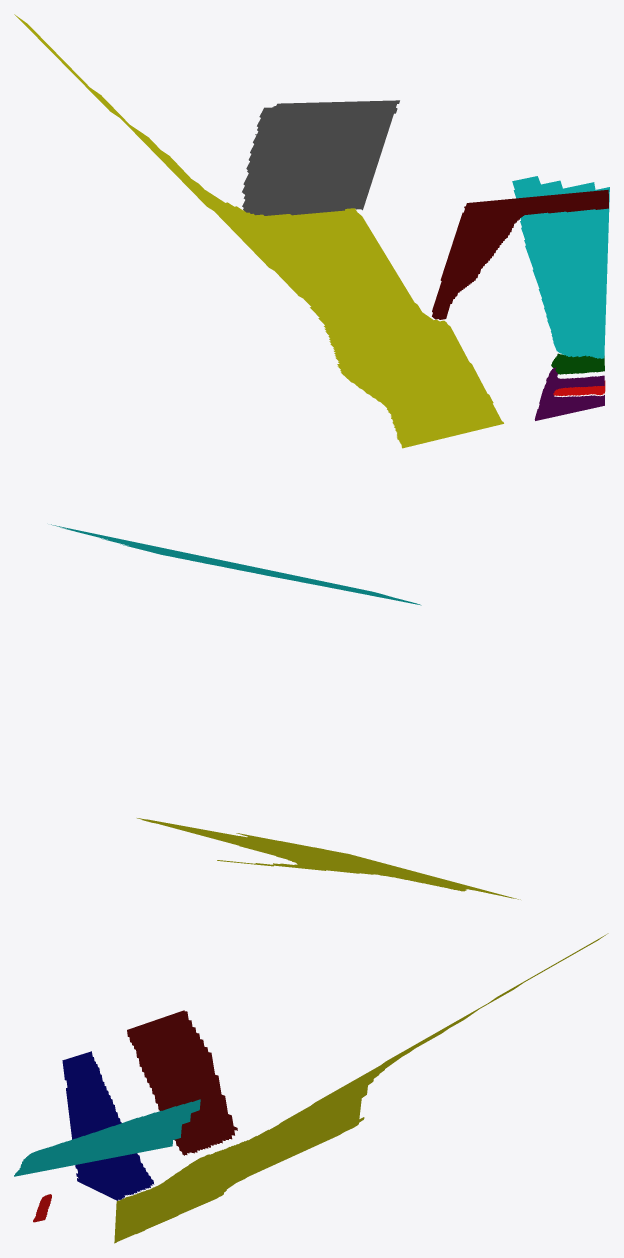
The model's file is 360_seg_predplane.glb.
3 views of the same model, one above another, from view 1: azimuth 30°, elevation 25°; view 2: azimuth 150°, elevation 25°; view 3: azimuth 270°, elevation 25° (orthographic). The views are drawn at different scales.
Size of the model in its own units: 3.02 by 2.29 by 5.14.
